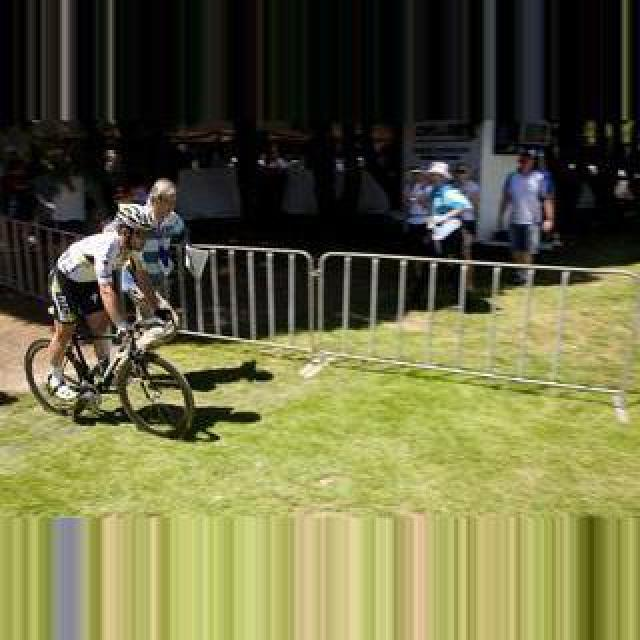MC-Bike: (44, 180, 190, 410), (498, 150, 554, 290), (430, 162, 480, 310), (402, 164, 442, 312)
Person: (23, 310, 195, 436)
